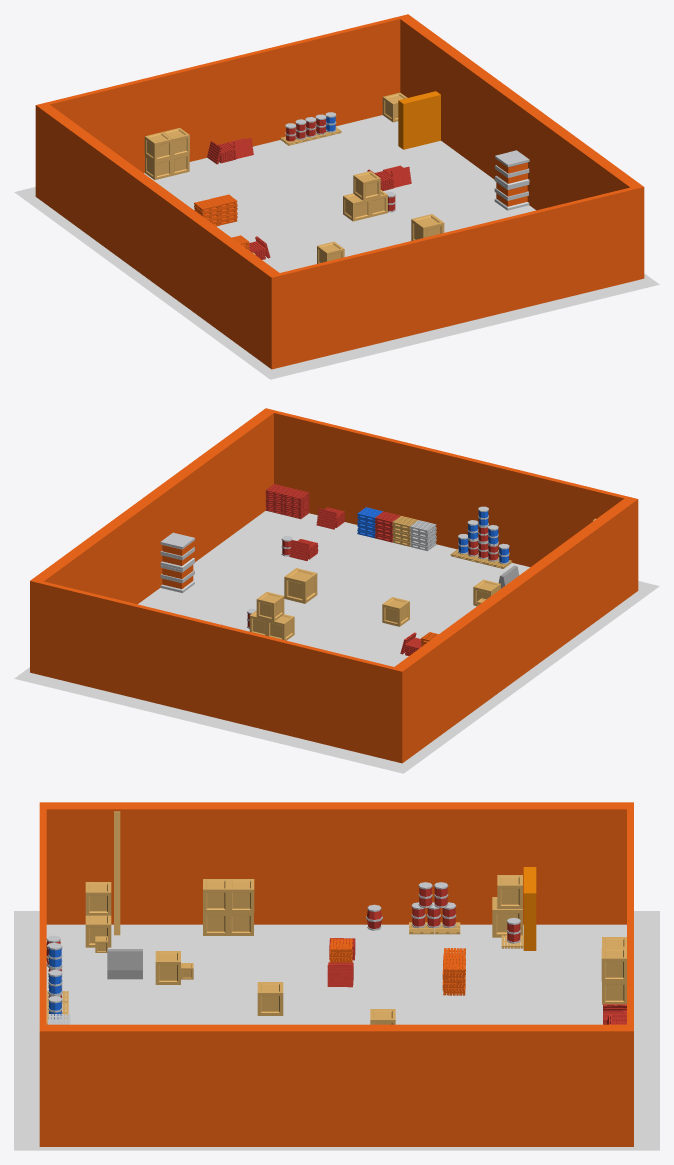
The model's file is Map0.glb.
The picture shows the model from 3 angles, top to bottom: view 1: azimuth 30°, elevation 25°; view 2: azimuth 150°, elevation 25°; view 3: azimuth 270°, elevation 25°; orthographic projection. The views are drawn at different scales.
Parts seen in each view (by area): view 1: floors, Plane, obj.004, BigBox.001, BigBox.004, Box.027, Box.011, Box.047, Box.010, obj.010, Box.026; view 2: floors, Plane, BigBox.001, Box.047, BigBox.004, Box.011, obj.055, obj.062, Box.051, Box.010, obj.063, obj.054 (+2 smaller); view 3: floors, Plane, obj.028, Cube.036, Box.051, Box.003, Box.006, Box.049, Box.036, Box.028, Box.007, Cube.031 (+8 smaller).
Boxes of the visible parts, x1,y1,x2,y2 form: floors: (35,14,644,369); Plane: (14,115,659,379); obj.004: (398,91,440,149); BigBox.001: (495,150,529,187); BigBox.004: (494,179,529,210); Box.027: (144,132,172,161); Box.011: (353,171,380,200); Box.047: (411,214,444,240); Box.010: (343,193,370,221); obj.010: (211,194,237,225); Box.026: (145,155,172,179); floors: (30,408,638,763); Plane: (14,511,659,773); BigBox.001: (160,532,194,569); Box.047: (284,568,317,603); BigBox.004: (160,561,194,592); Box.011: (256,592,284,621); obj.055: (410,520,436,551); obj.062: (283,488,309,518); Box.051: (382,597,409,626); Box.010: (267,614,294,640); obj.063: (265,484,291,514); obj.054: (392,516,418,546); floors: (39,802,633,1146); Plane: (14,911,659,1150); obj.028: (523,867,536,950); Cube.036: (107,949,142,979); Box.051: (257,982,283,1015); Box.003: (85,882,111,915); Box.006: (228,879,254,912); Box.049: (155,951,180,984); Box.036: (497,875,522,908); Box.028: (601,948,626,981); Box.007: (203,879,228,912); Cube.031: (114,811,120,935).
Bounding box in the file's own units: 35.57 × 8.02 × 40.53.
